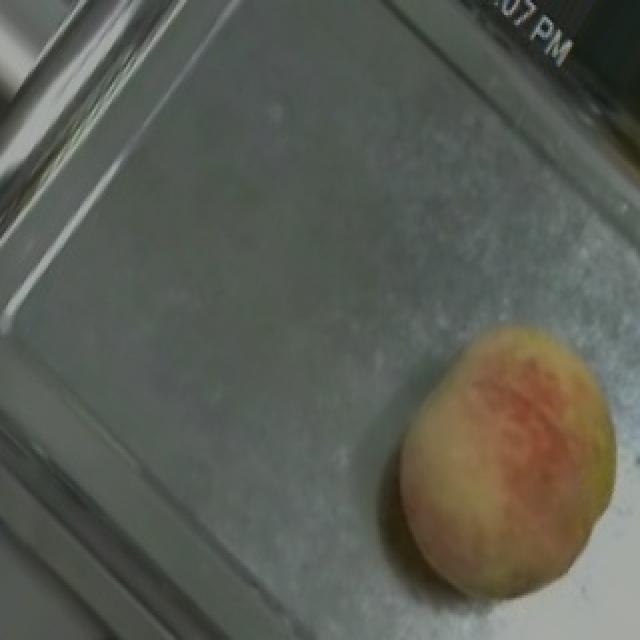Fruit: (354, 282, 640, 628)
